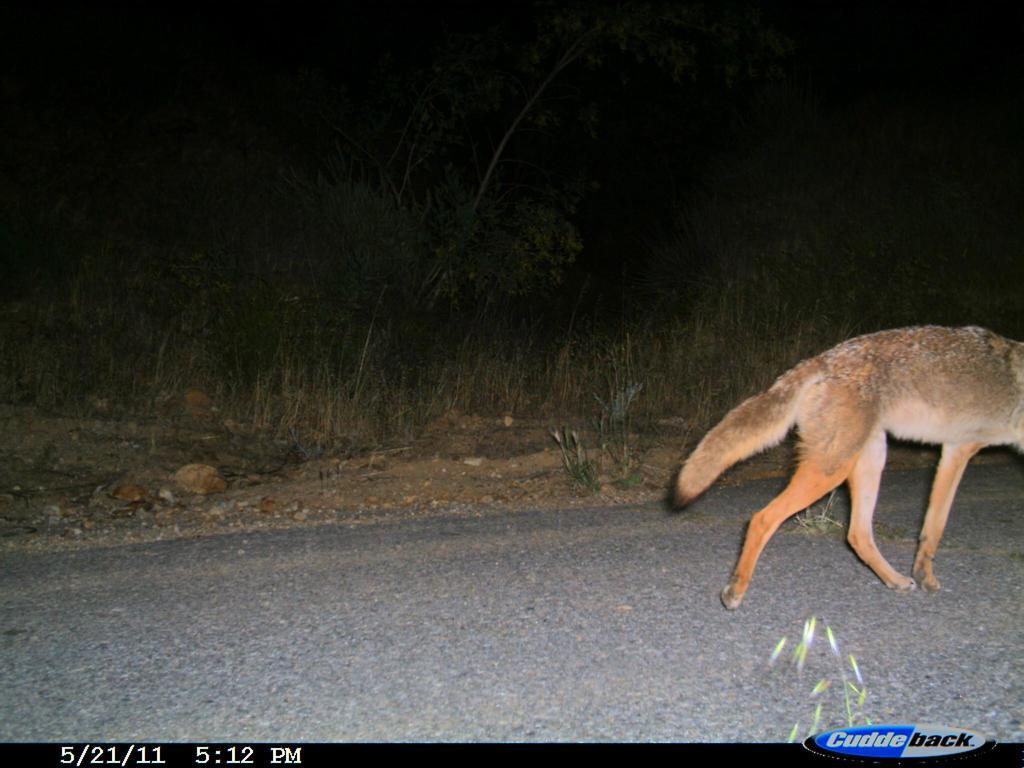coyote: (661, 312, 1024, 615)
